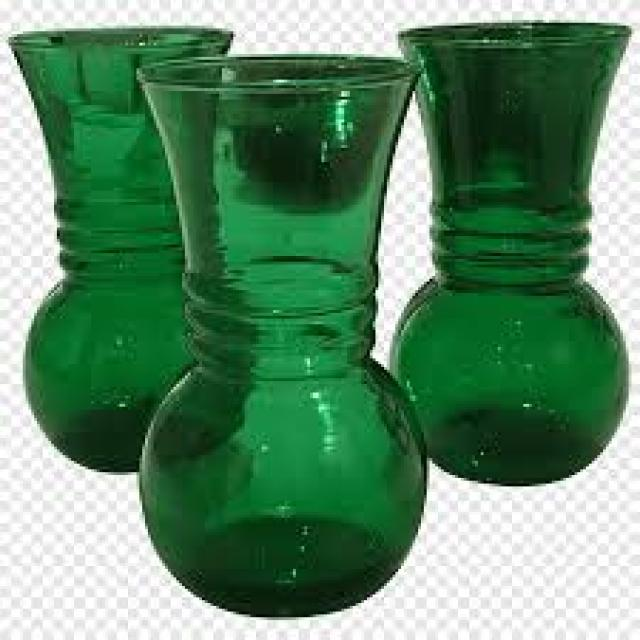glass: (131, 49, 427, 615), (387, 20, 626, 483), (6, 26, 248, 469)
